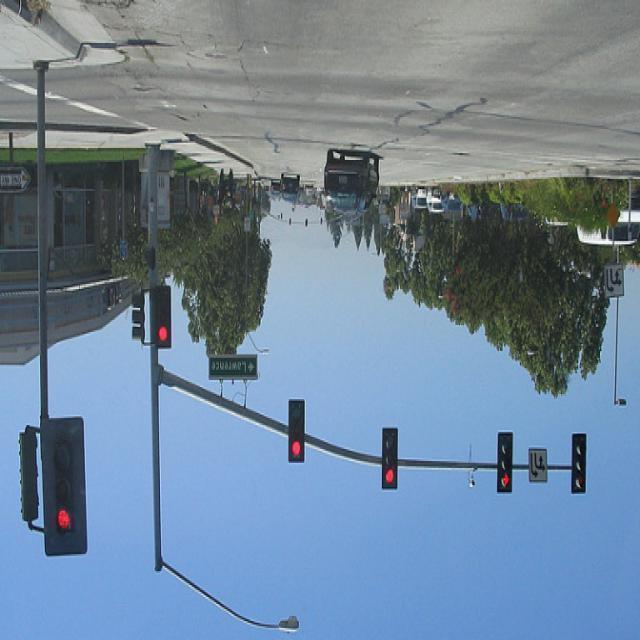red_light: (43, 413, 100, 560), (149, 280, 179, 356), (287, 395, 313, 468), (380, 424, 402, 492), (494, 433, 516, 495)
